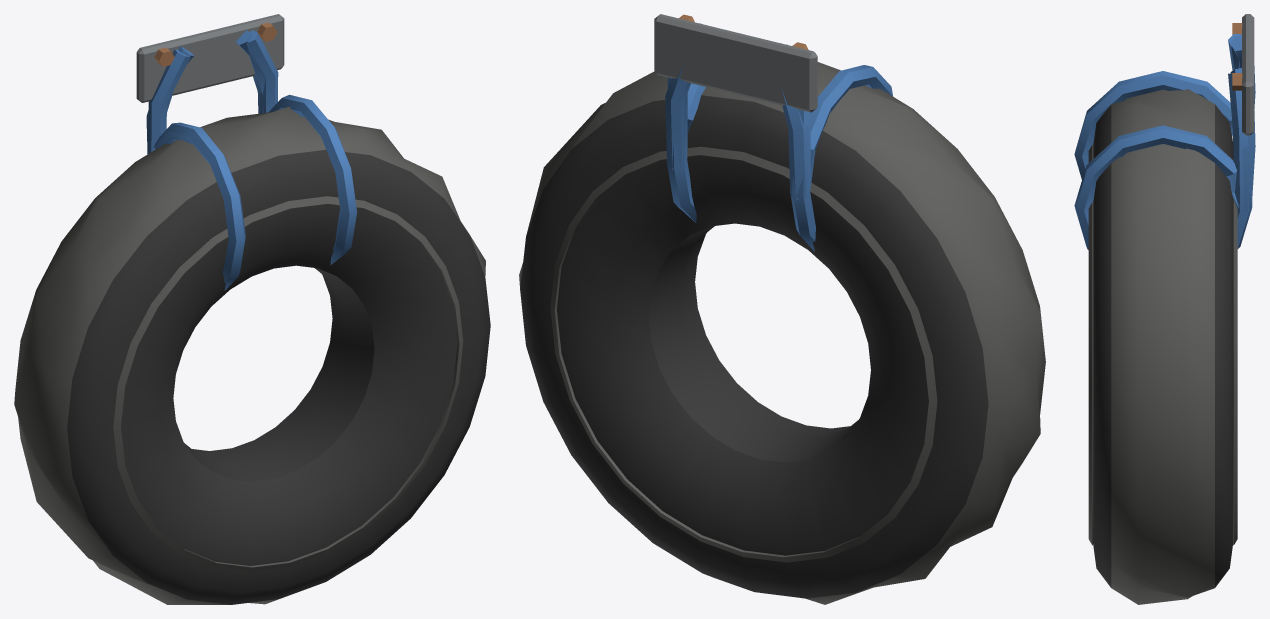
The model's file is tire_fender.glb.
3 views of the same model, side by side, from view 1: azimuth 30°, elevation 25°; view 2: azimuth 150°, elevation 25°; view 3: azimuth 270°, elevation 25° (orthographic). The views are drawn at different scales.
Parts seen in each view (by area): view 1: tire_fender_body; view 2: tire_fender_body; view 3: tire_fender_body.
Part boxes in pixels (x1,y1,x2,y2): tire_fender_body: (14,14,490,604); tire_fender_body: (519,14,1045,604); tire_fender_body: (1074,14,1255,604).
Size of what is drawn, in the model's own units: 1.06 by 1.19 by 0.3664.
